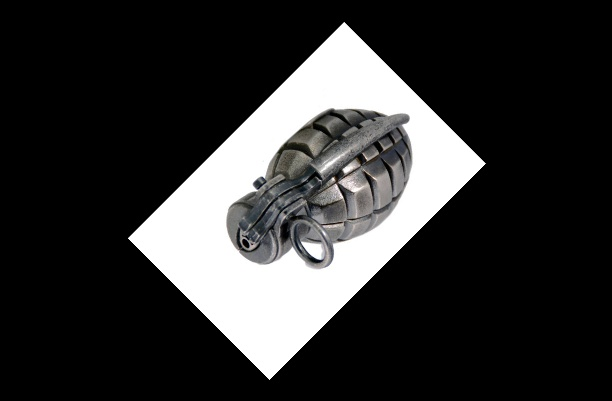e1: (223, 110, 418, 268)
